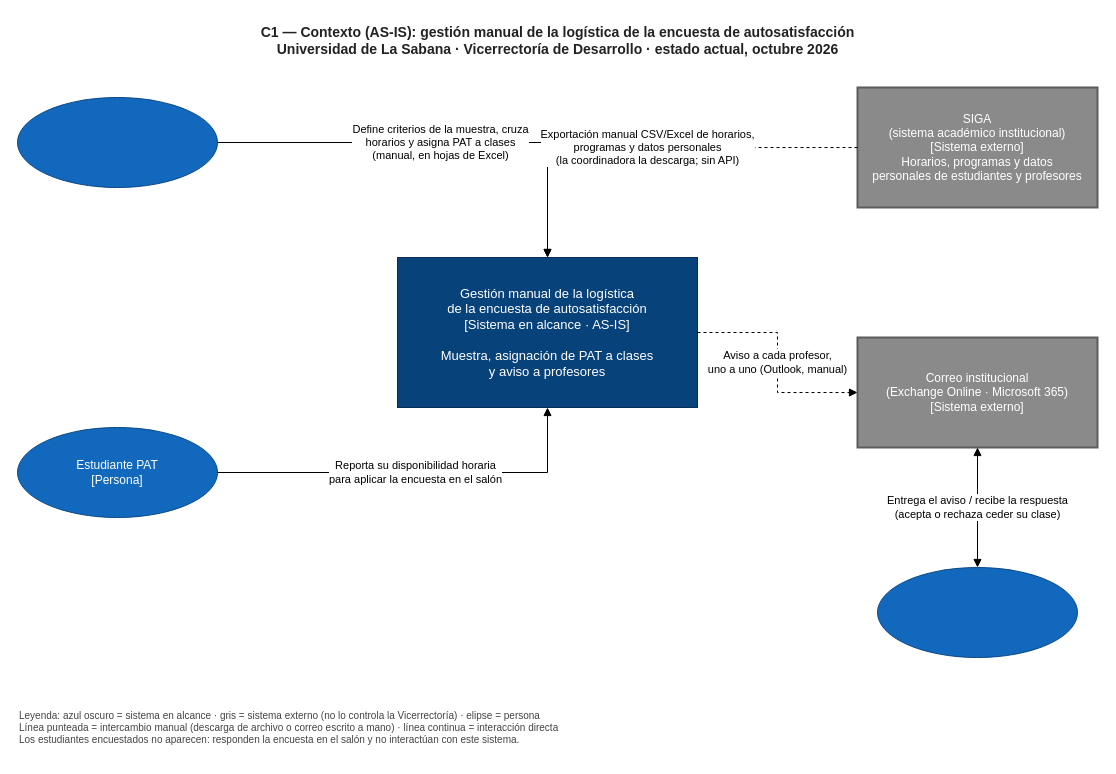
Some shapes in this 1116 by 774 pixel diagram are drawn without their labels. Here are the shapes that lost their labels. From the top down, the centre of each, then its label:
[117,142]: Coordinadora de la encuesta (Vicerrectoría de Desarrollo) [Persona]
[977,612]: Profesor [Persona]
